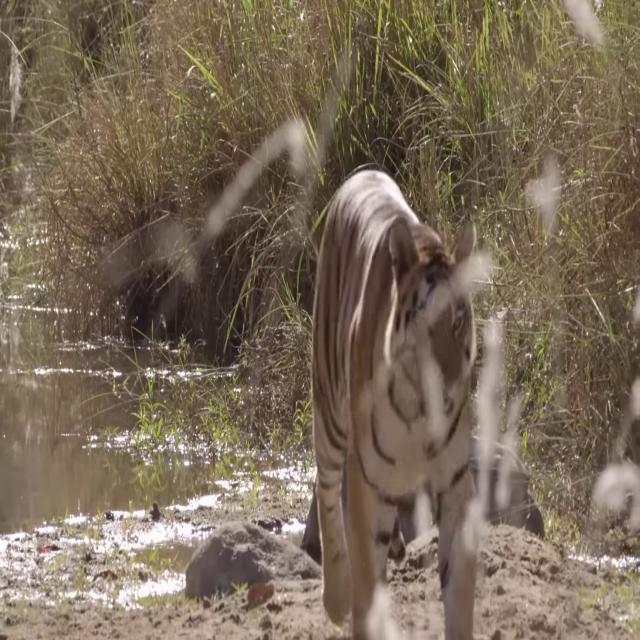tiger: (311, 166, 479, 640)
